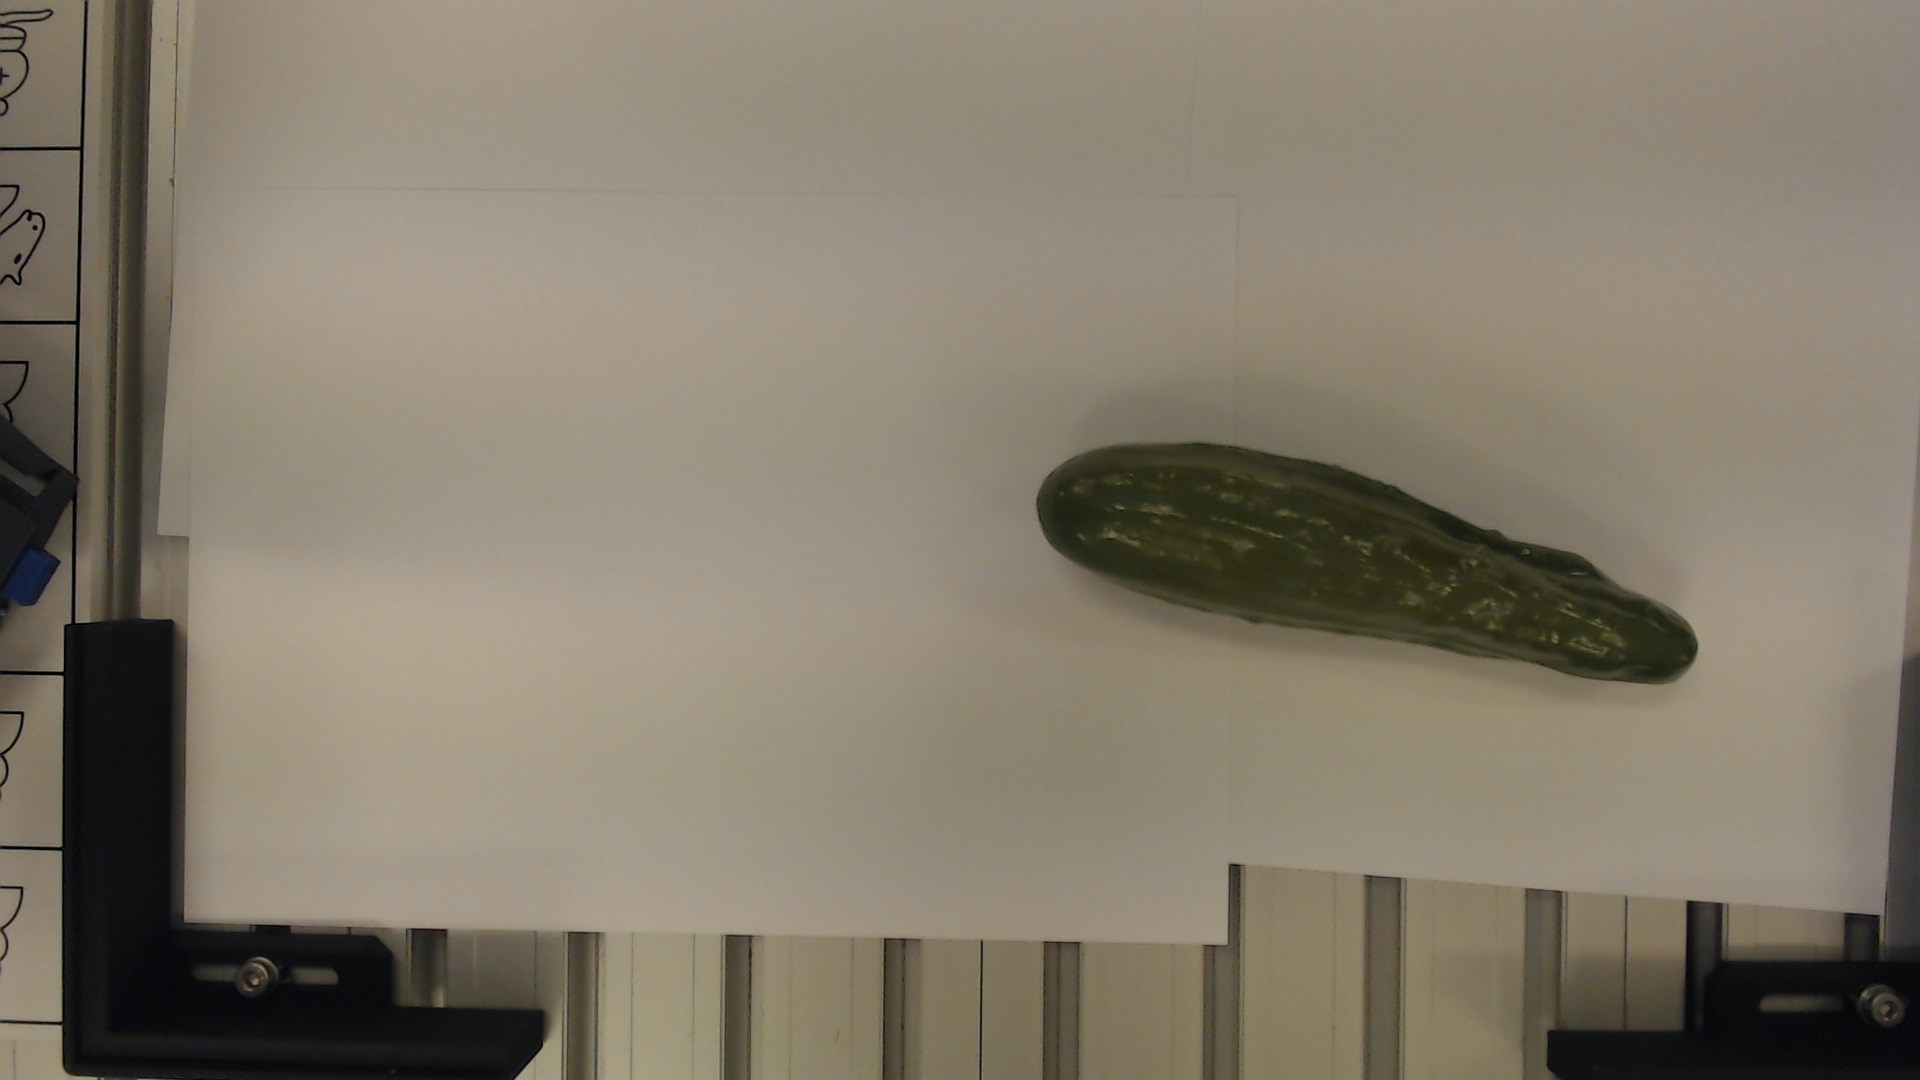Cucumber: (1027, 433, 1701, 695)
